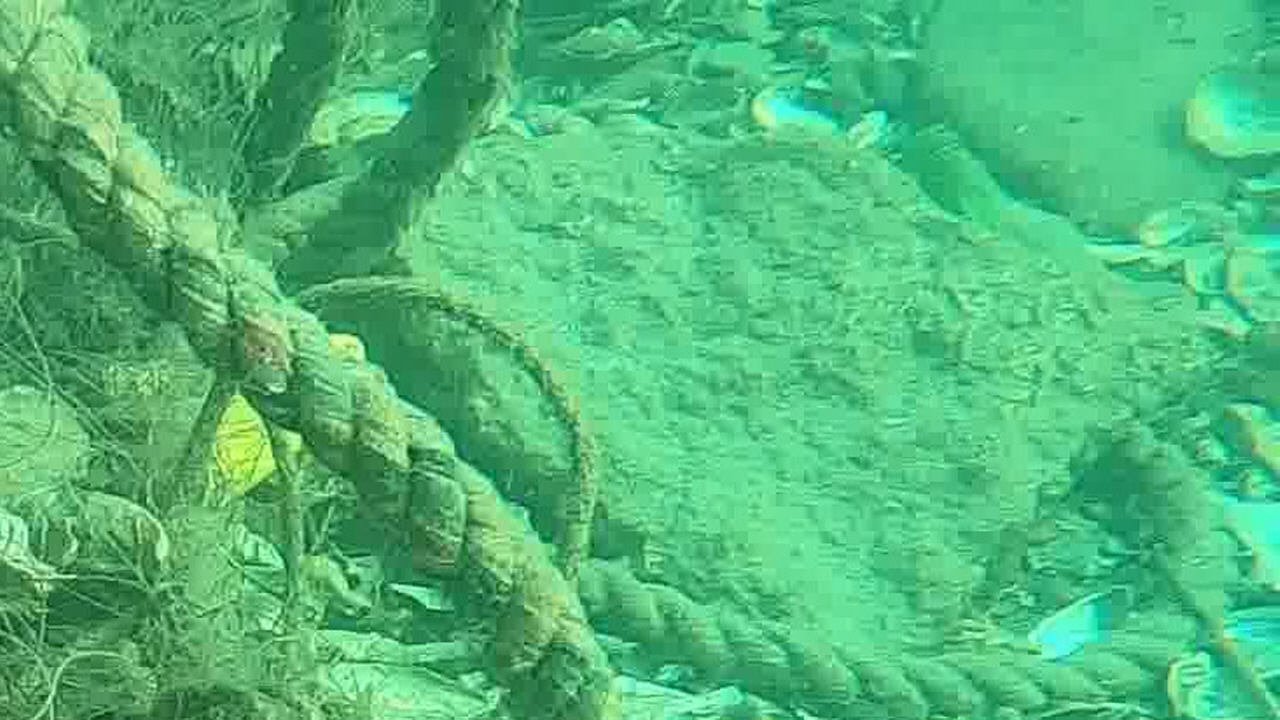rope: (576, 406, 1222, 720)
